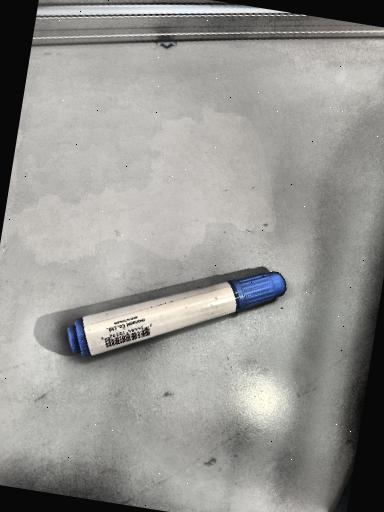marcador azul: (67, 271, 286, 357)
